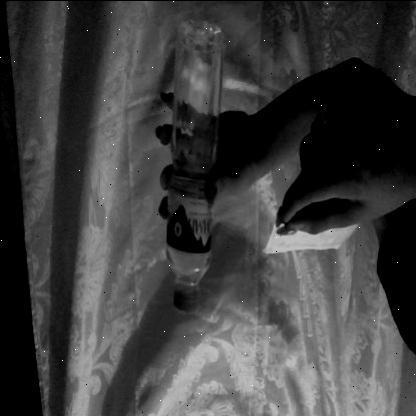Plastic Bottle: (144, 0, 241, 330)
